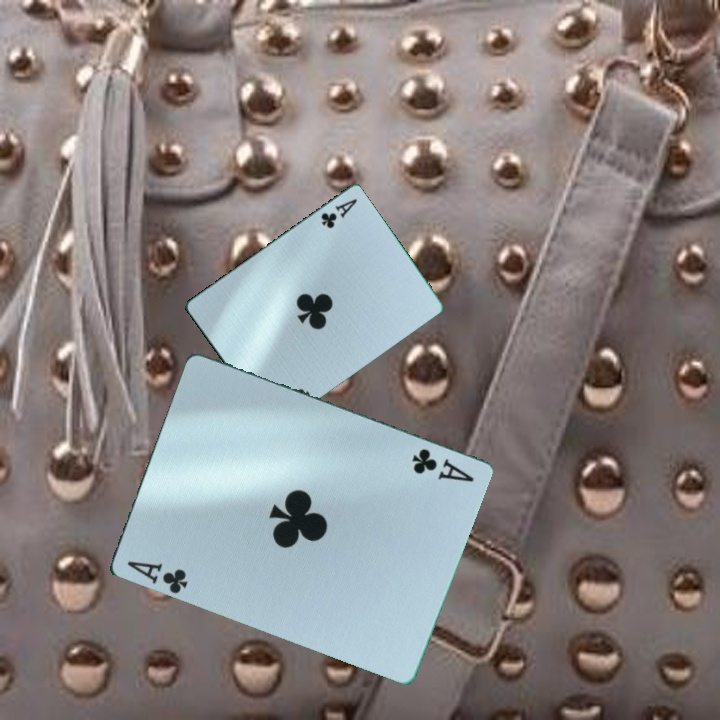Ac: (407, 445, 477, 486), (123, 557, 190, 597), (317, 195, 360, 231)
